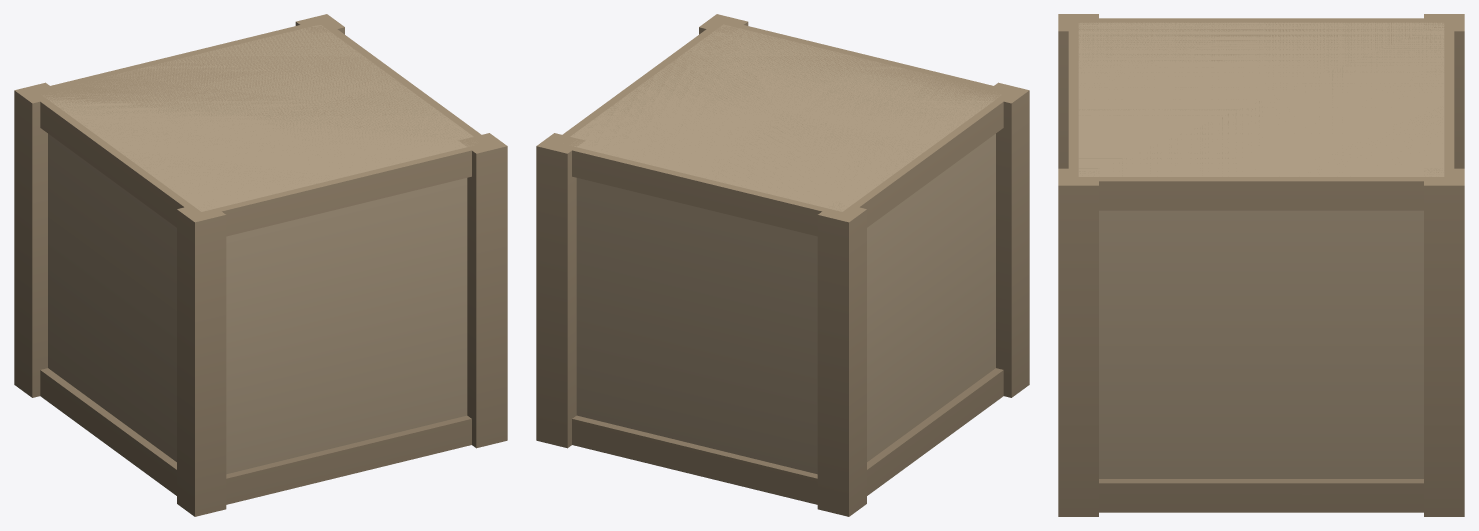
The model's file is crate.glb.
3 views of the same model, side by side, from view 1: azimuth 30°, elevation 25°; view 2: azimuth 150°, elevation 25°; view 3: azimuth 270°, elevation 25° (orthographic). The views are drawn at different scales.
Visible parts, largest first — view 1: root; view 2: root; view 3: root.
Part boxes in pixels (x1,y1,x2,y2): root: (14, 14, 507, 516); root: (536, 14, 1029, 516); root: (1058, 14, 1464, 516).
Size of the model in its own units: 1 by 0.9 by 1.
